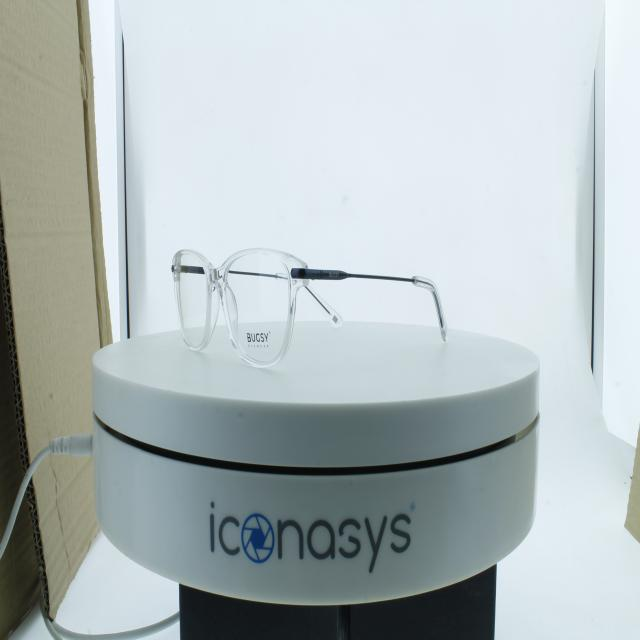Specs: (167, 238, 456, 373)
